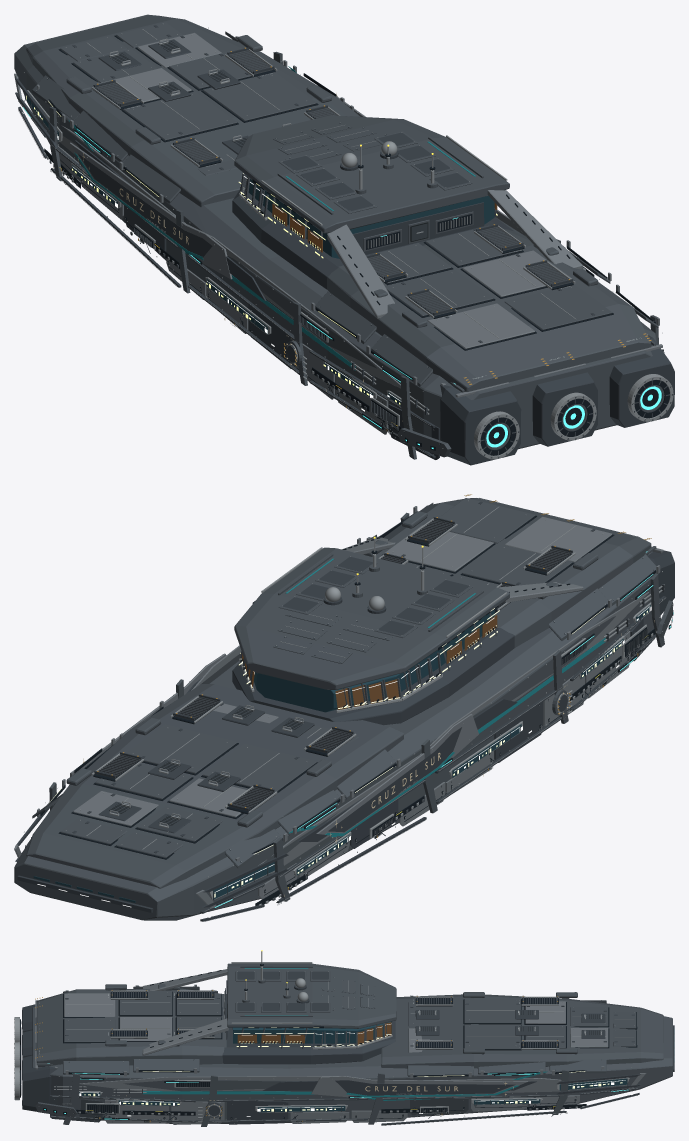
Rendered from cruz-del-sur-exterior.glb.
3 views of the same model, one above another, from view 1: azimuth 30°, elevation 25°; view 2: azimuth 150°, elevation 25°; view 3: azimuth 270°, elevation 25° (orthographic). The views are drawn at different scales.
Parts seen in each view (by area): view 1: CRUZ_DEL_SUR_CDS_Ceramic graphite, CRUZ_DEL_SUR_CDS_Dark armor, CRUZ_DEL_SUR_CDS_Titanium armor, CRUZ_DEL_SUR_CDS_Deep recess, CRUZ_DEL_SUR_CDS_Machined edges, CRUZ_DEL_SUR_CDS_Smoked sapphire glazing, CRUZ_DEL_SUR_CDS_Petrol livery, CRUZ_DEL_SUR_CDS_Ion cyan, CRUZ_DEL_SUR_CDS_Warm interior light; view 2: CRUZ_DEL_SUR_CDS_Ceramic graphite, CRUZ_DEL_SUR_CDS_Dark armor, CRUZ_DEL_SUR_CDS_Titanium armor, CRUZ_DEL_SUR_CDS_Machined edges, CRUZ_DEL_SUR_CDS_Deep recess, CRUZ_DEL_SUR_CDS_Smoked sapphire glazing, CRUZ_DEL_SUR_CDS_Warm smoked observation glass, CRUZ_DEL_SUR_CDS_Petrol livery, CRUZ_DEL_SUR_CDS_Warm interior light, CRUZ_DEL_SUR_CDS_Warm white strip, CRUZ_DEL_SUR_CDS_Black elastomer seals; view 3: CRUZ_DEL_SUR_CDS_Ceramic graphite, CRUZ_DEL_SUR_CDS_Dark armor, CRUZ_DEL_SUR_CDS_Titanium armor, CRUZ_DEL_SUR_CDS_Deep recess, CRUZ_DEL_SUR_CDS_Machined edges, CRUZ_DEL_SUR_CDS_Smoked sapphire glazing, CRUZ_DEL_SUR_CDS_Petrol livery, CRUZ_DEL_SUR_CDS_Warm smoked observation glass, CRUZ_DEL_SUR_CDS_Warm interior light, CRUZ_DEL_SUR_CDS_Warm white strip.
Boxes of the visible parts, left/top/right/bottom form: CRUZ_DEL_SUR_CDS_Ceramic graphite: left=14, top=14, right=670, bottom=459; CRUZ_DEL_SUR_CDS_Dark armor: left=15, top=25, right=674, bottom=465; CRUZ_DEL_SUR_CDS_Titanium armor: left=14, top=32, right=662, bottom=434; CRUZ_DEL_SUR_CDS_Deep recess: left=36, top=35, right=673, bottom=458; CRUZ_DEL_SUR_CDS_Machined edges: left=18, top=23, right=673, bottom=459; CRUZ_DEL_SUR_CDS_Smoked sapphire glazing: left=26, top=96, right=494, bottom=405; CRUZ_DEL_SUR_CDS_Petrol livery: left=68, top=66, right=475, bottom=370; CRUZ_DEL_SUR_CDS_Ion cyan: left=23, top=107, right=661, bottom=448; CRUZ_DEL_SUR_CDS_Warm interior light: left=26, top=95, right=497, bottom=404; CRUZ_DEL_SUR_CDS_Ceramic graphite: left=14, top=498, right=673, bottom=920; CRUZ_DEL_SUR_CDS_Dark armor: left=15, top=501, right=674, bottom=921; CRUZ_DEL_SUR_CDS_Titanium armor: left=14, top=499, right=663, bottom=908; CRUZ_DEL_SUR_CDS_Machined edges: left=24, top=500, right=672, bottom=921; CRUZ_DEL_SUR_CDS_Deep recess: left=40, top=512, right=673, bottom=908; CRUZ_DEL_SUR_CDS_Smoked sapphire glazing: left=33, top=524, right=650, bottom=902; CRUZ_DEL_SUR_CDS_Warm smoked observation glass: left=242, top=615, right=497, bottom=709; CRUZ_DEL_SUR_CDS_Petrol livery: left=285, top=558, right=605, bottom=837; CRUZ_DEL_SUR_CDS_Warm interior light: left=48, top=608, right=647, bottom=897; CRUZ_DEL_SUR_CDS_Warm white strip: left=37, top=606, right=651, bottom=917; CRUZ_DEL_SUR_CDS_Black elastomer seals: left=109, top=649, right=641, bottom=887; CRUZ_DEL_SUR_CDS_Ceramic graphite: left=32, top=963, right=672, bottom=1126; CRUZ_DEL_SUR_CDS_Dark armor: left=22, top=971, right=674, bottom=1125; CRUZ_DEL_SUR_CDS_Titanium armor: left=35, top=969, right=646, bottom=1124; CRUZ_DEL_SUR_CDS_Deep recess: left=20, top=963, right=637, bottom=1123; CRUZ_DEL_SUR_CDS_Machined edges: left=14, top=951, right=637, bottom=1125; CRUZ_DEL_SUR_CDS_Smoked sapphire glazing: left=79, top=985, right=674, bottom=1112; CRUZ_DEL_SUR_CDS_Petrol livery: left=143, top=968, right=547, bottom=1100; CRUZ_DEL_SUR_CDS_Warm smoked observation glass: left=237, top=1022, right=391, bottom=1044; CRUZ_DEL_SUR_CDS_Warm interior light: left=84, top=1027, right=622, bottom=1111; CRUZ_DEL_SUR_CDS_Warm white strip: left=79, top=1023, right=674, bottom=1116.
Bounding box in the file's own units: 16.06 × 11.23 × 49.85.
